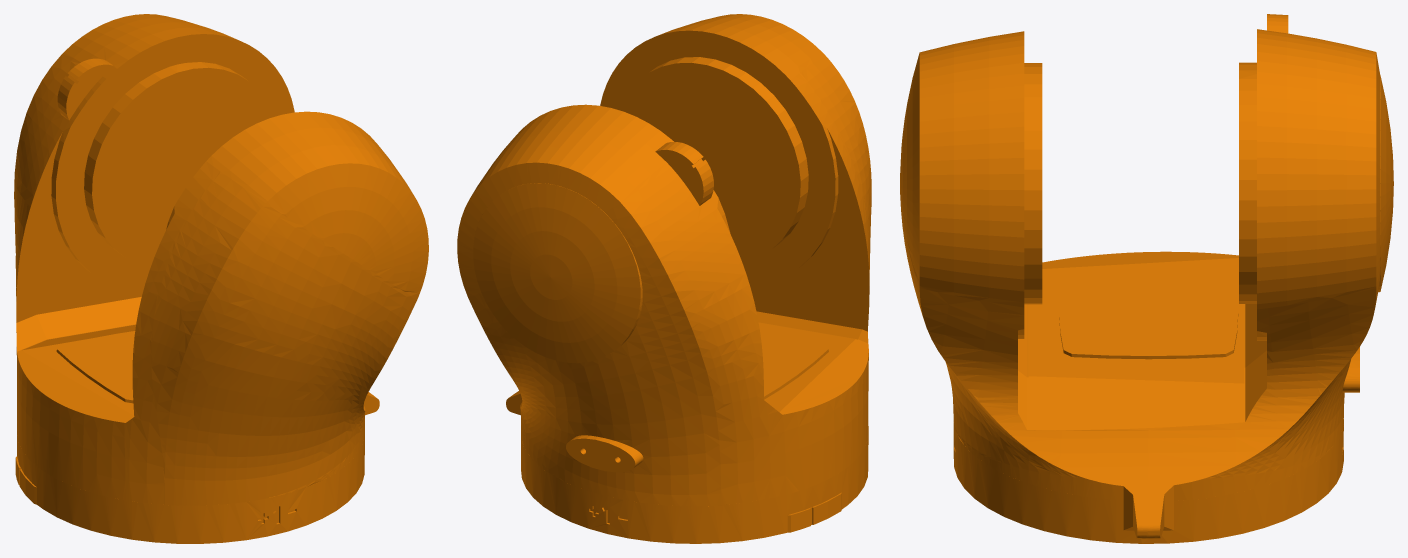
The picture shows the model from 3 angles, left to right: view 1: azimuth 30°, elevation 25°; view 2: azimuth 150°, elevation 25°; view 3: azimuth 270°, elevation 25°; orthographic projection. The views are drawn at different scales.
Parts seen in each view (by area): view 1: Link 1; view 2: Link 1; view 3: Link 1.
Boxes of the visible parts, x1,y1,x2,y2 form: Link 1: (14, 14, 428, 543); Link 1: (457, 14, 871, 543); Link 1: (900, 14, 1393, 543).
Bounding box in the file's own units: 24.28 × 26.93 × 27.59.
